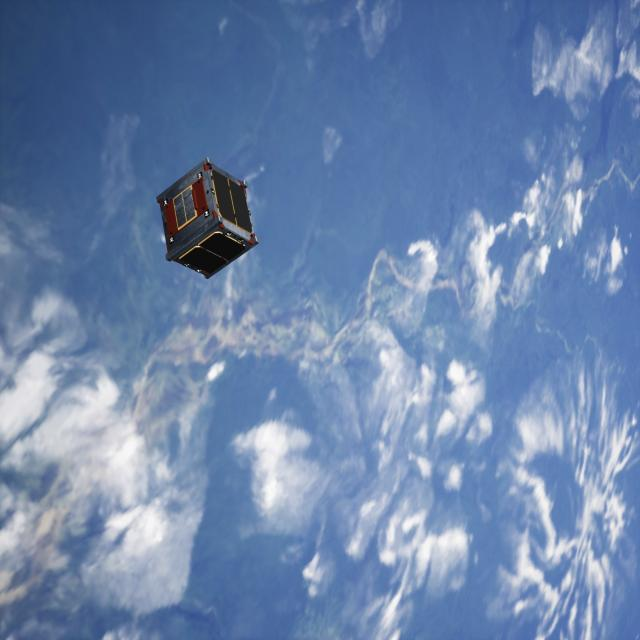satellite: (153, 161, 260, 281)
